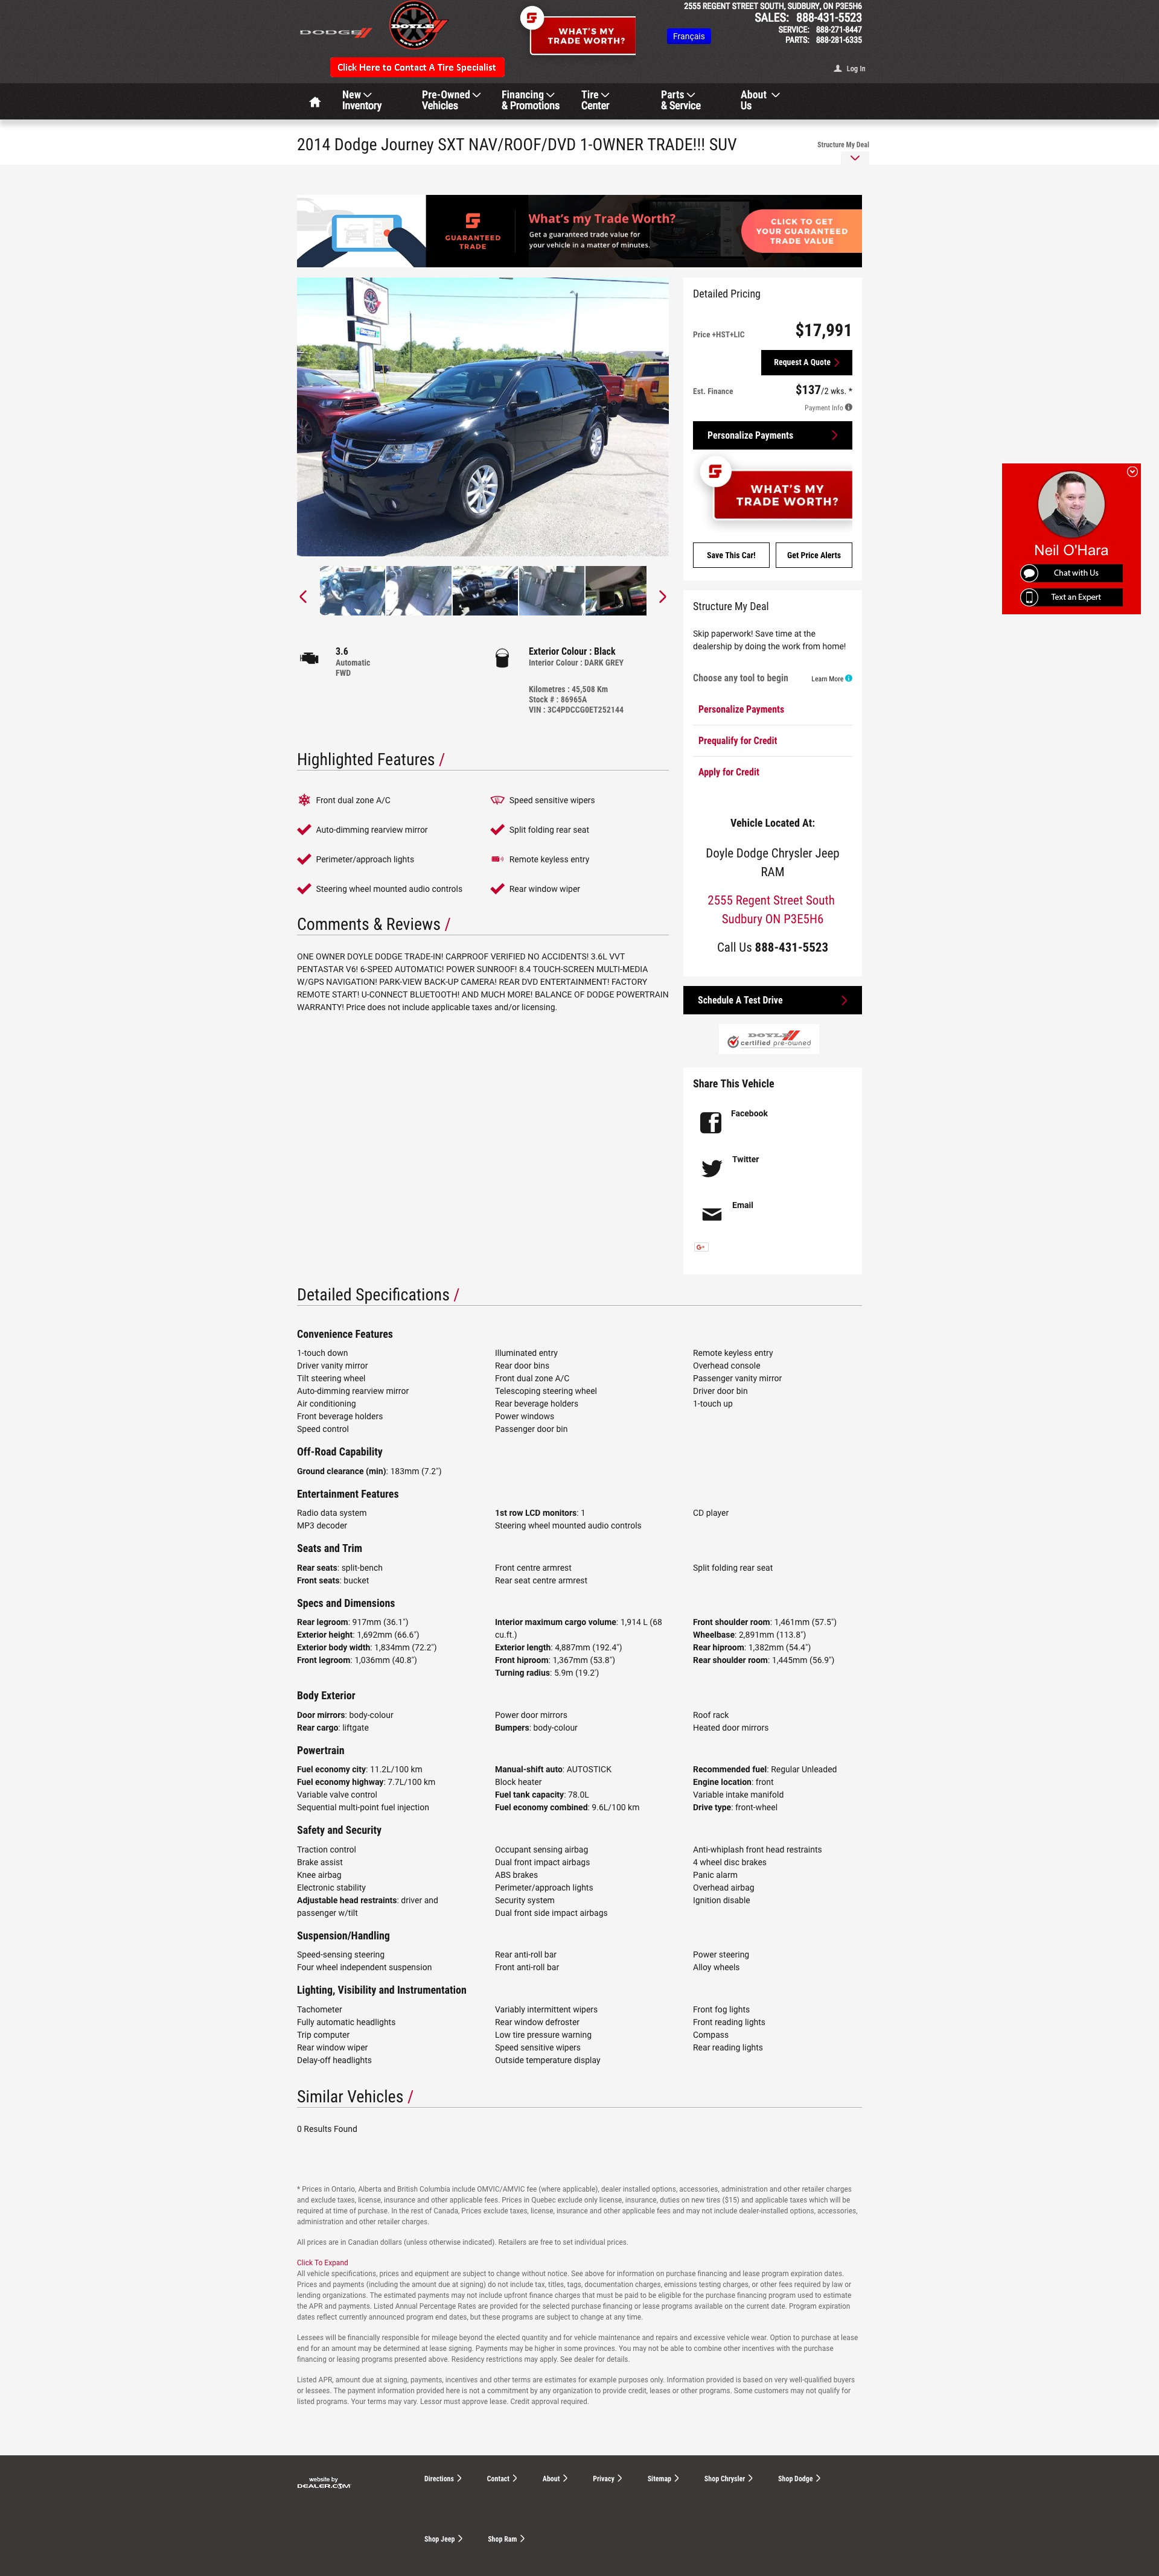car: (659, 590, 667, 605)
